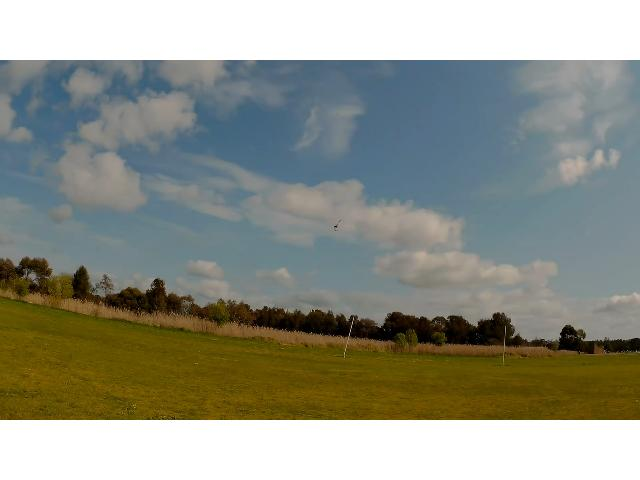Anti-Drone: (333, 220, 341, 232)
